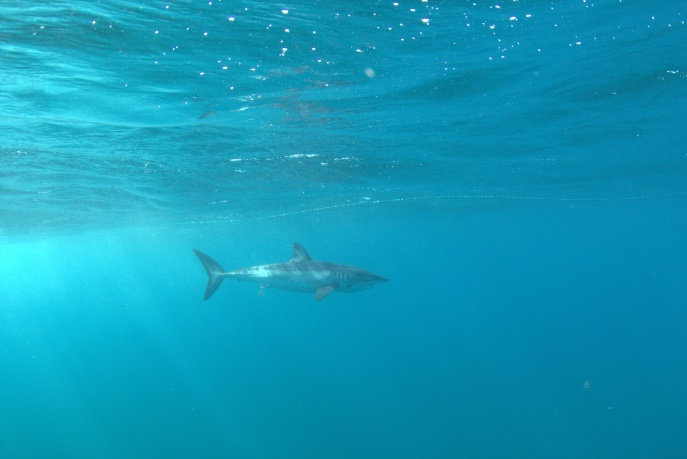Mako: (182, 233, 394, 310)
